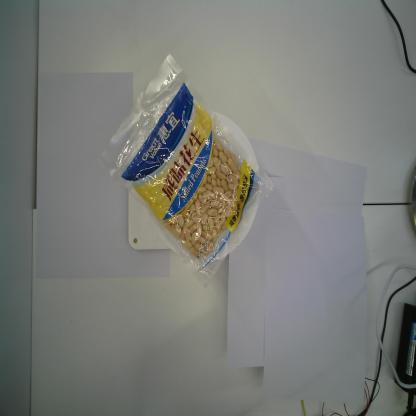Dried Fruit: (97, 51, 276, 290)
